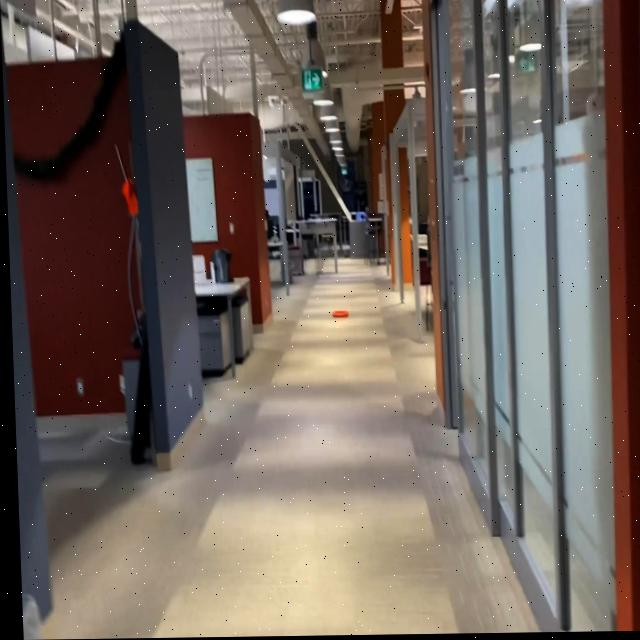note: (329, 305, 346, 322)
